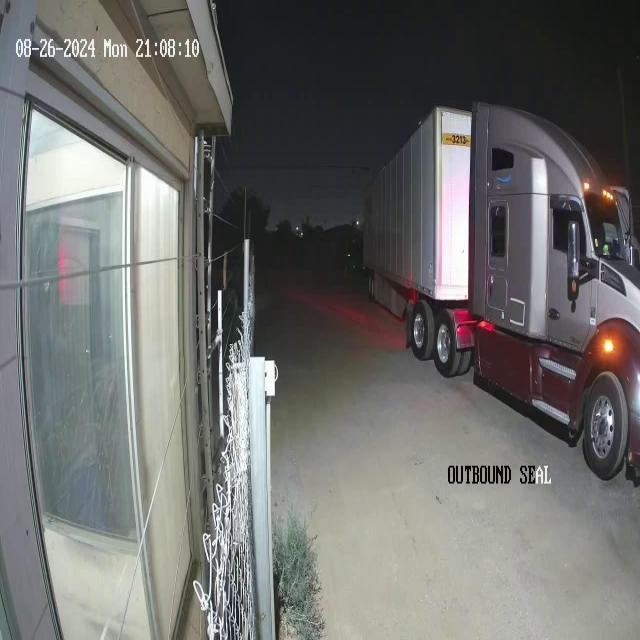TRUCK_CONTAINER: (362, 99, 639, 481)
